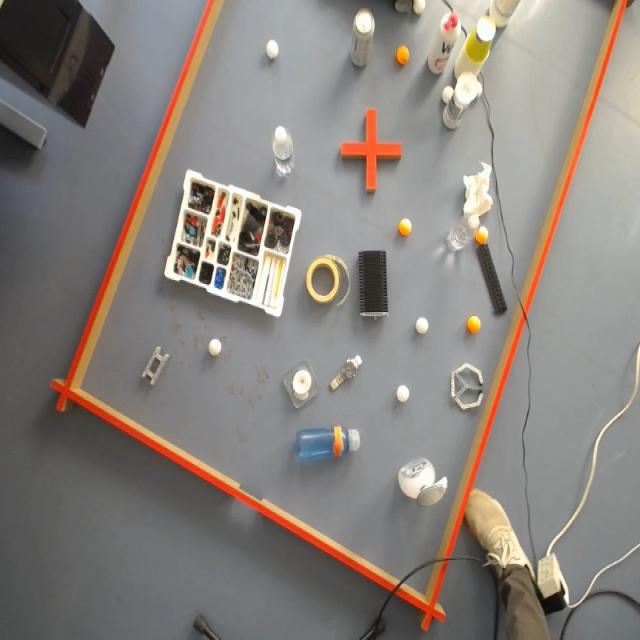orange: (397, 216, 415, 237), (464, 314, 482, 334), (395, 46, 409, 66), (476, 225, 488, 243)
white: (205, 338, 227, 357), (264, 38, 280, 62), (394, 383, 411, 405), (414, 316, 431, 337), (442, 85, 454, 103), (414, 0, 426, 13)
